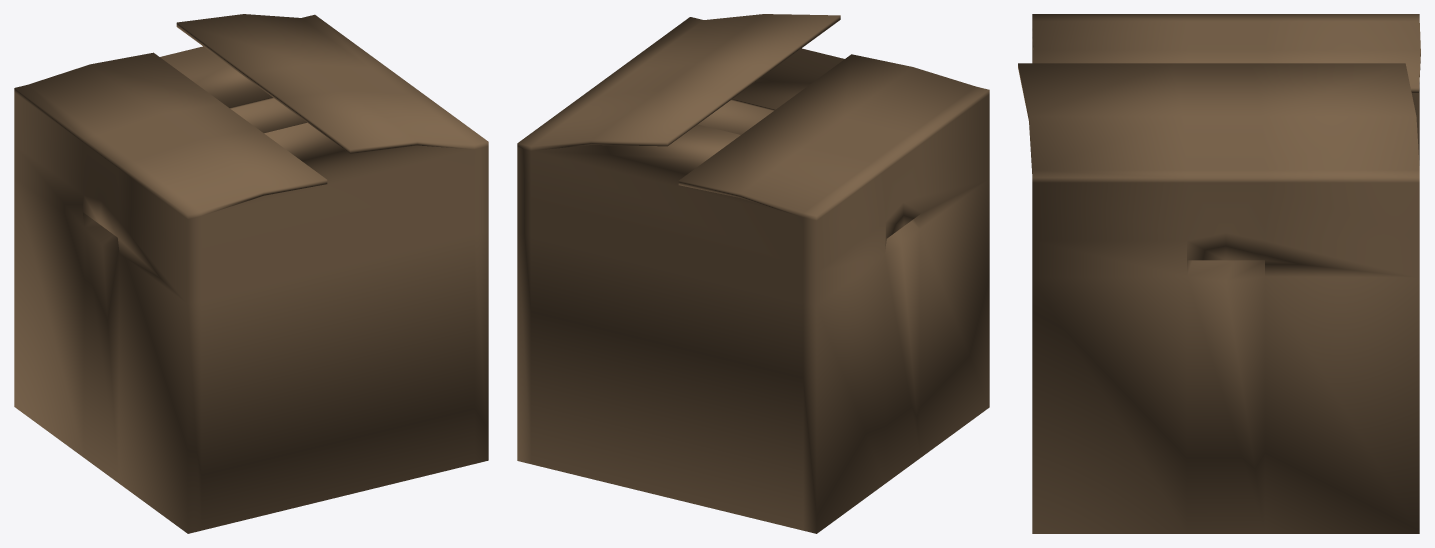
File: smbox.fbx
3 renders of one model, left to right at view 1: azimuth 30°, elevation 25°; view 2: azimuth 150°, elevation 25°; view 3: azimuth 270°, elevation 25°, orthographic. The views are drawn at different scales.
Parts seen in each view (by area): view 1: Cube; view 2: Cube; view 3: Cube.
Part boxes in pixels (bbox=[...]): Cube: bbox=[14, 14, 488, 533]; Cube: bbox=[517, 14, 989, 533]; Cube: bbox=[1018, 14, 1420, 533].
Size of the model in its own units: 202 by 223 by 208.
